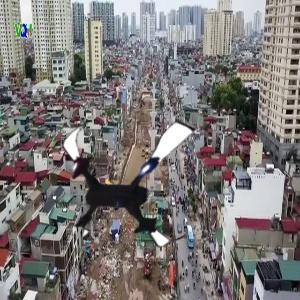drone: (50, 99, 213, 262)
